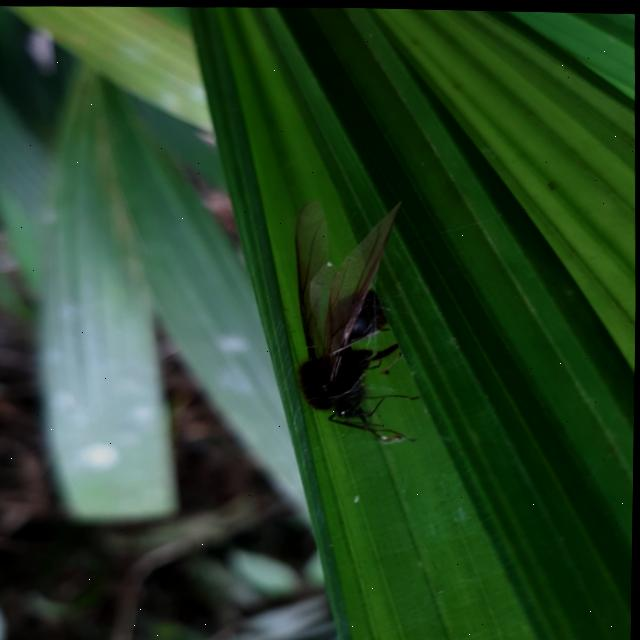Dead-Male-Alate: (290, 194, 425, 444)
